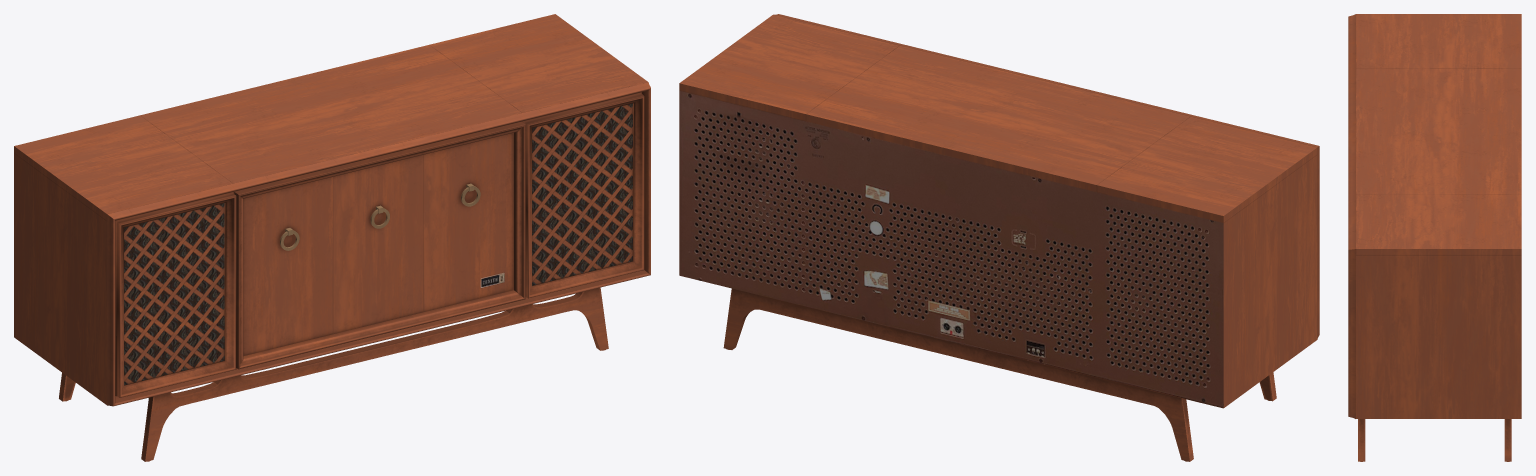
The model's file is wadrobe.glb.
3 views of the same model, side by side, from view 1: azimuth 30°, elevation 25°; view 2: azimuth 150°, elevation 25°; view 3: azimuth 270°, elevation 25° (orthographic). The views are drawn at different scales.
Visible parts, largest first — view 1: Object_2; view 2: Object_2; view 3: Object_2.
Boxes of the visible parts, x1,y1,x2,y2 form: Object_2: (14, 14, 650, 461); Object_2: (679, 14, 1319, 461); Object_2: (1348, 14, 1521, 461).
Bounding box in the file's own units: 145 × 66.12 × 45.15.
Materials: 1 (1 with a texture image).
